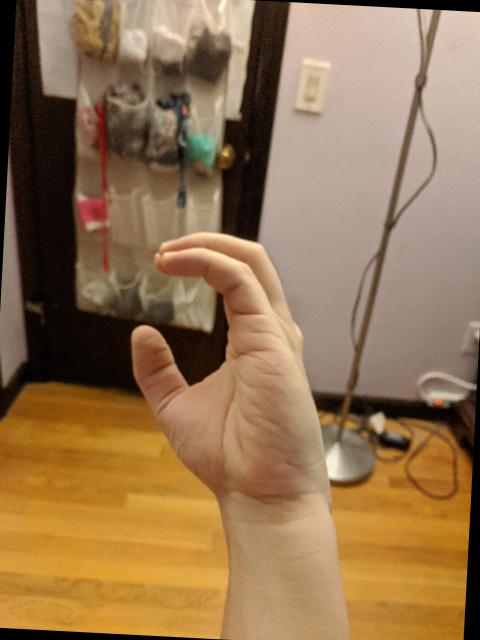C: (118, 222, 345, 513)
